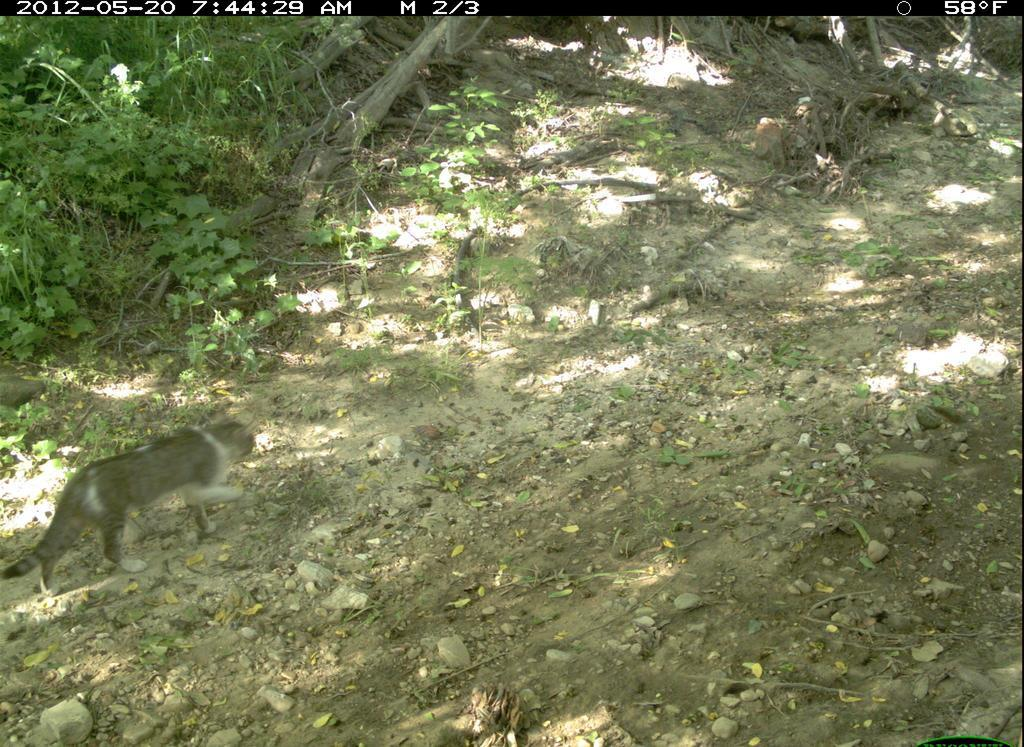cat: (4, 397, 260, 606)
